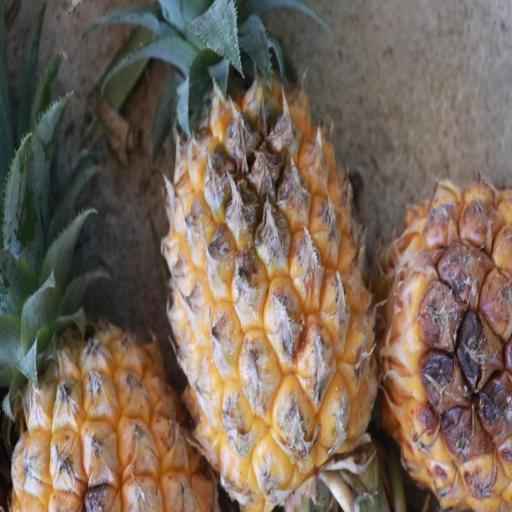Pineapple - v8 v1: (163, 42, 382, 512), (12, 141, 227, 512), (376, 175, 512, 512)
